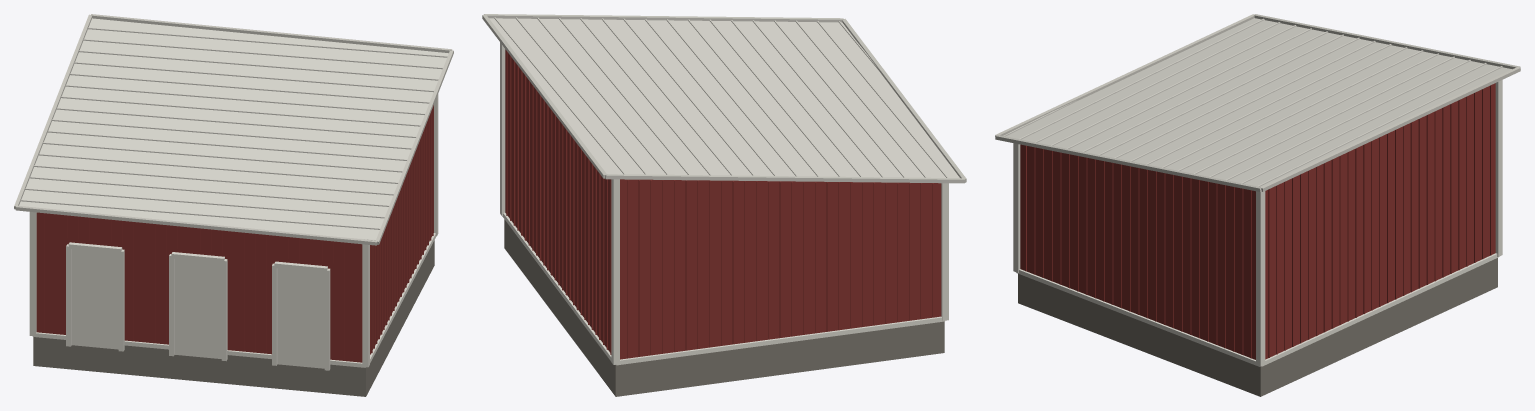
The picture shows the model from 3 angles, left to right: view 1: azimuth 30°, elevation 25°; view 2: azimuth 150°, elevation 25°; view 3: azimuth 270°, elevation 25°; orthographic projection. The views are drawn at different scales.
Parts seen in each view (by area): view 1: Tortuna facility | range-shelter | Roof tile, Tortuna facility | range-shelter | Timber, Tortuna facility | range-shelter | White trim, Tortuna facility | range-shelter | Tile course, Tortuna facility | range-shelter | Foundation, Tortuna facility | range-shelter | Batten, Tortuna facility | range-shelter | Roof flashing; view 2: Tortuna facility | range-shelter | Timber, Tortuna facility | range-shelter | Roof tile, Tortuna facility | range-shelter | Batten, Tortuna facility | range-shelter | Foundation, Tortuna facility | range-shelter | Tile course, Tortuna facility | range-shelter | White trim, Tortuna facility | range-shelter | Roof flashing; view 3: Tortuna facility | range-shelter | Timber, Tortuna facility | range-shelter | Roof tile, Tortuna facility | range-shelter | Batten, Tortuna facility | range-shelter | Foundation, Tortuna facility | range-shelter | Tile course, Tortuna facility | range-shelter | White trim, Tortuna facility | range-shelter | Roof flashing.
Boxes of the visible parts, x1,y1,x2,y2 form: Tortuna facility | range-shelter | Roof tile: (19, 18, 448, 239); Tortuna facility | range-shelter | Timber: (36, 105, 433, 362); Tortuna facility | range-shelter | White trim: (29, 94, 438, 370); Tortuna facility | range-shelter | Tile course: (20, 27, 447, 240); Tortuna facility | range-shelter | Foundation: (33, 240, 434, 396); Tortuna facility | range-shelter | Batten: (43, 106, 433, 361); Tortuna facility | range-shelter | Roof flashing: (14, 14, 453, 245); Tortuna facility | range-shelter | Timber: (505, 49, 941, 359); Tortuna facility | range-shelter | Roof tile: (489, 18, 959, 177); Tortuna facility | range-shelter | Batten: (506, 51, 933, 358); Tortuna facility | range-shelter | Foundation: (504, 219, 944, 396); Tortuna facility | range-shelter | Tile course: (494, 17, 948, 177); Tortuna facility | range-shelter | White trim: (500, 42, 948, 365); Tortuna facility | range-shelter | Roof flashing: (482, 14, 966, 183); Tortuna facility | range-shelter | Timber: (1020, 83, 1495, 359); Tortuna facility | range-shelter | Roof tile: (1006, 18, 1511, 186); Tortuna facility | range-shelter | Batten: (1025, 85, 1491, 358); Tortuna facility | range-shelter | Foundation: (1018, 258, 1497, 396); Tortuna facility | range-shelter | Tile course: (1003, 18, 1502, 186); Tortuna facility | range-shelter | White trim: (1013, 80, 1502, 366); Tortuna facility | range-shelter | Roof flashing: (995, 14, 1520, 191).
Bounding box in the file's own units: 10.42 × 4.79 × 10.39.
